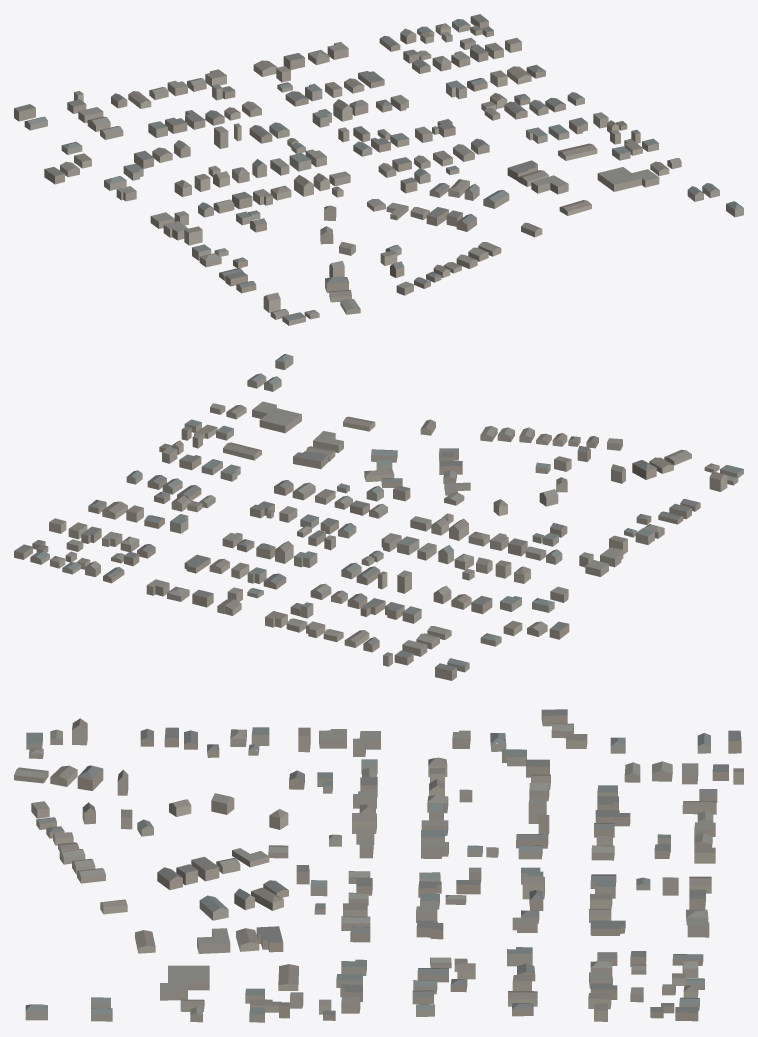
File: b28472eb458f-chunk-1199_11839.glb
3 renders of one model, top to bottom at view 1: azimuth 30°, elevation 25°; view 2: azimuth 150°, elevation 25°; view 3: azimuth 270°, elevation 25°, orthographic. The views are drawn at different scales.
Parts seen in each view (by area): view 1: building_67775, building_33706; view 2: building_67775; view 3: building_67775, building_33706, building_74244, building_162960, building_4059, building_170066, building_91523, building_147210.
Boxes of the visible parts, x1,y1,x2,y2 form: building_67775: (597, 167, 659, 191); building_33706: (531, 175, 568, 194); building_67775: (252, 401, 301, 433); building_67775: (160, 965, 209, 1000); building_33706: (197, 928, 230, 953); building_74244: (256, 926, 283, 952); building_162960: (590, 920, 625, 935); building_4059: (319, 729, 346, 748); building_170066: (278, 964, 298, 990); building_91523: (77, 765, 103, 790); building_147210: (199, 895, 228, 920).
Size of the model in its own units: 389 by 12.35 by 397.
